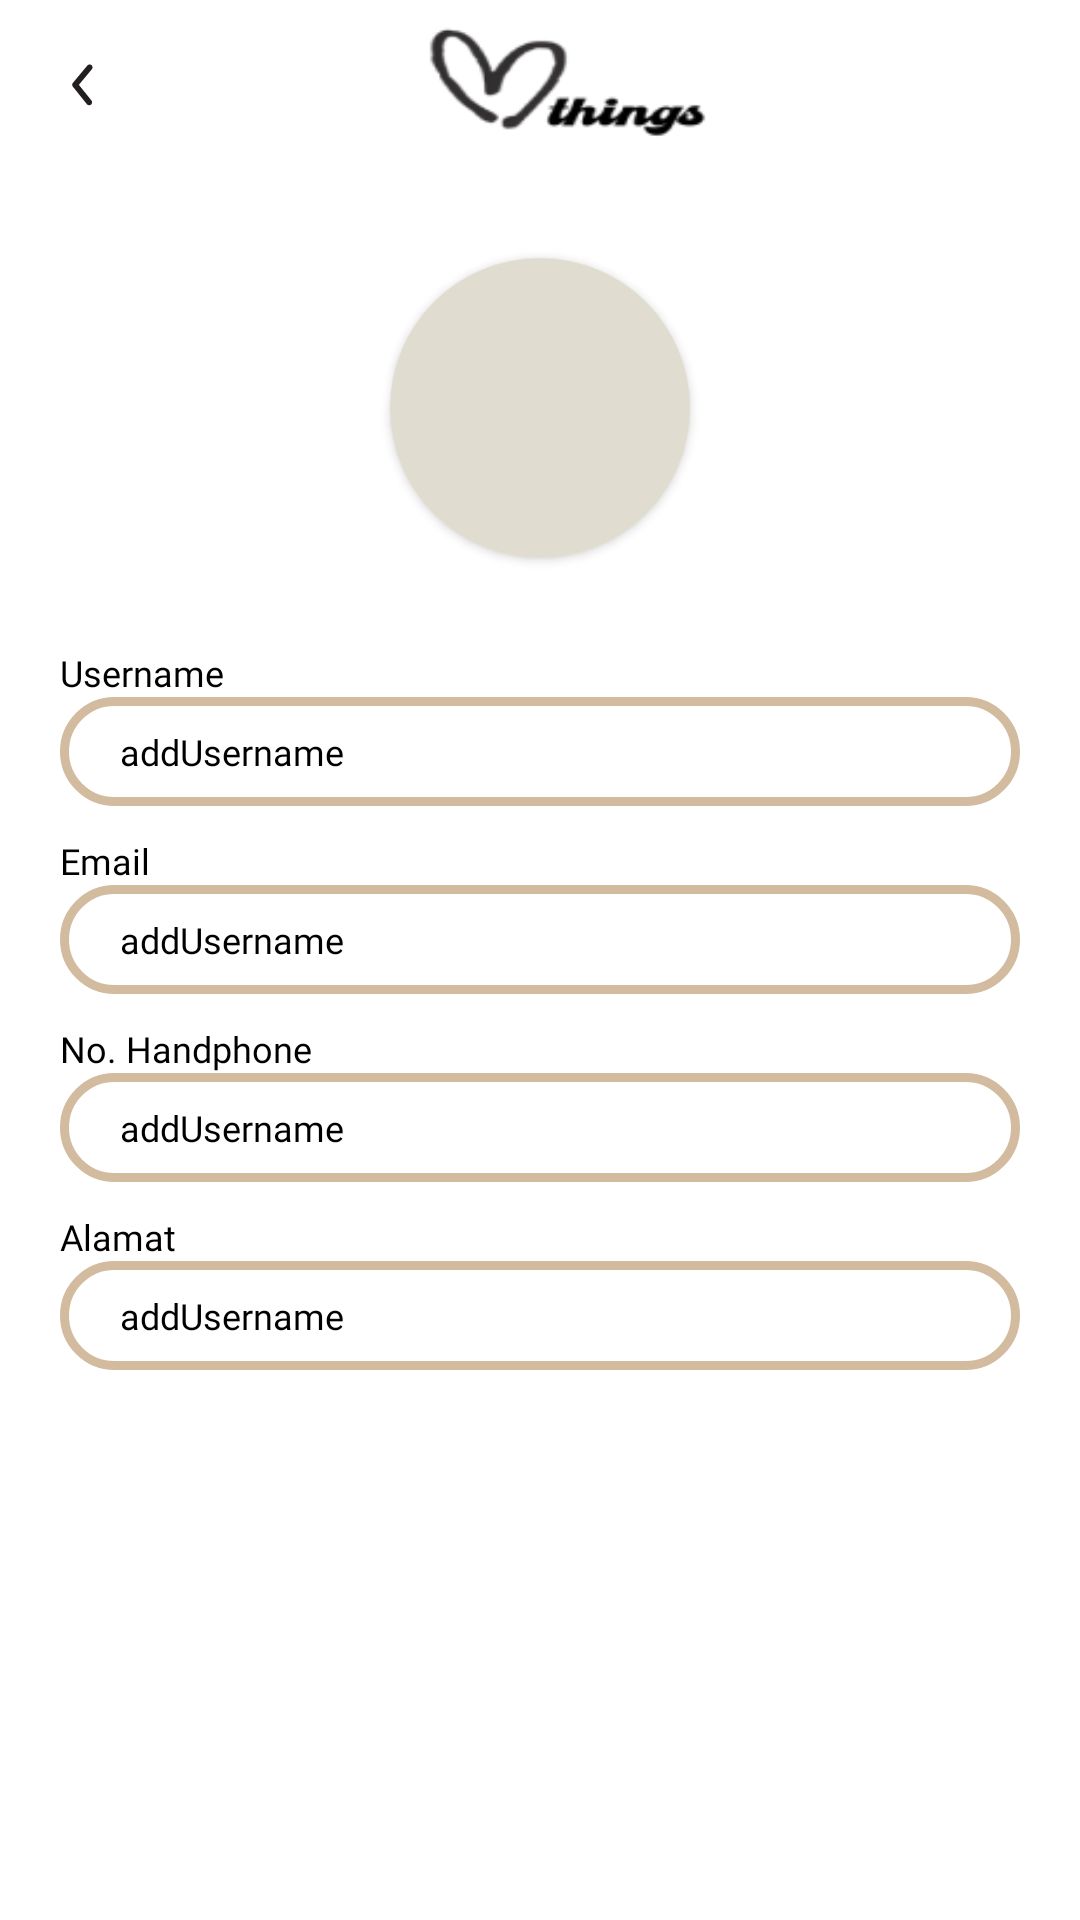

Screen size 1080px x 1920px. Icon name, then its box in pixels as {"left": x1, "top": y1, "right": x2, "bottom": y2}:
row left: {"left": 72, "top": 64, "right": 93, "bottom": 106}
